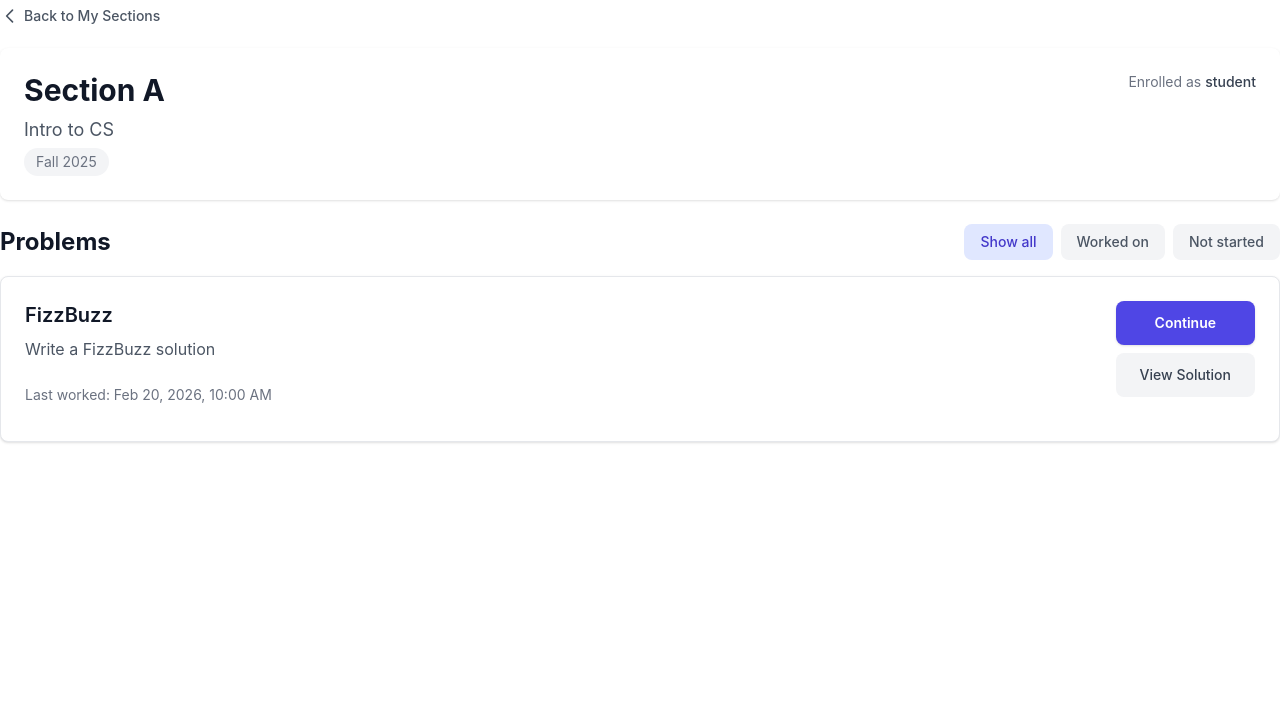
Scenario: StudentSectionView › View Solution modal › clicking "View Solution" opens a modal showing the solution code
Note: Click "View Solution"
Click the button "View Solution".
click(1185, 375)  # box [1116, 353, 1255, 397]
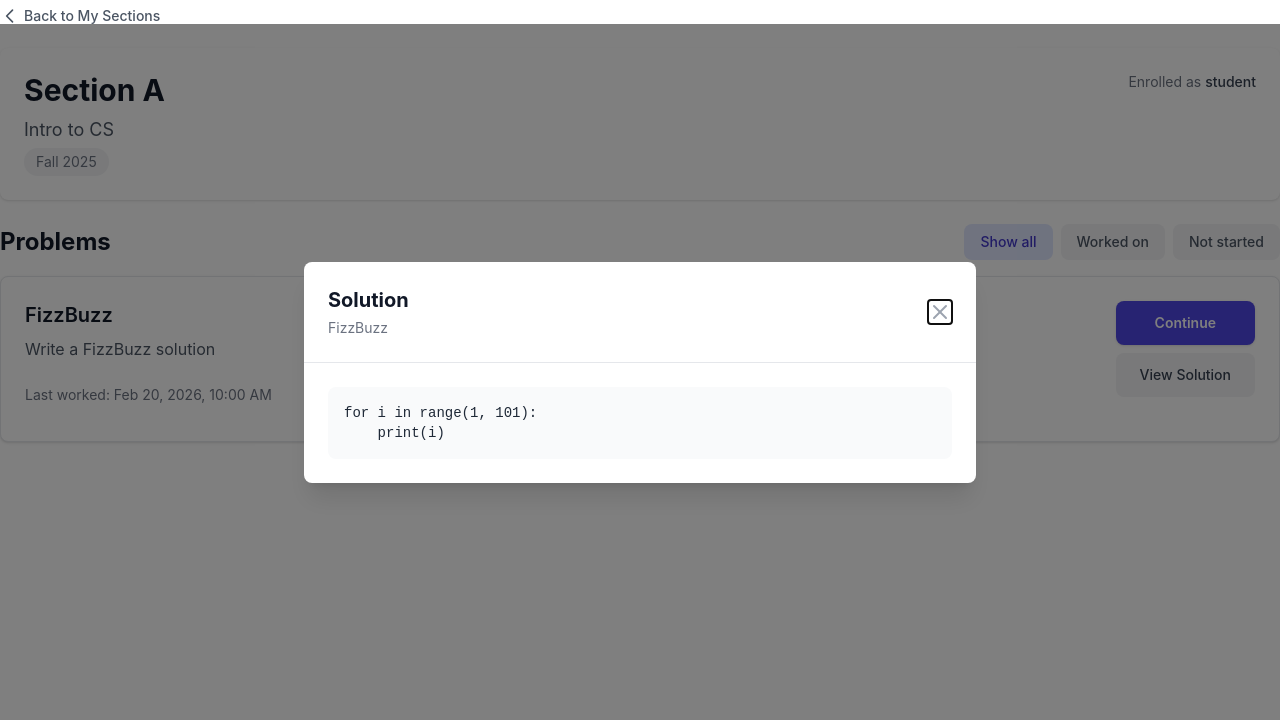
Expected: the dialog is shown
Expected: the text "for i in range(1, 101): print(i)" is shown, [344, 404, 537, 440]
